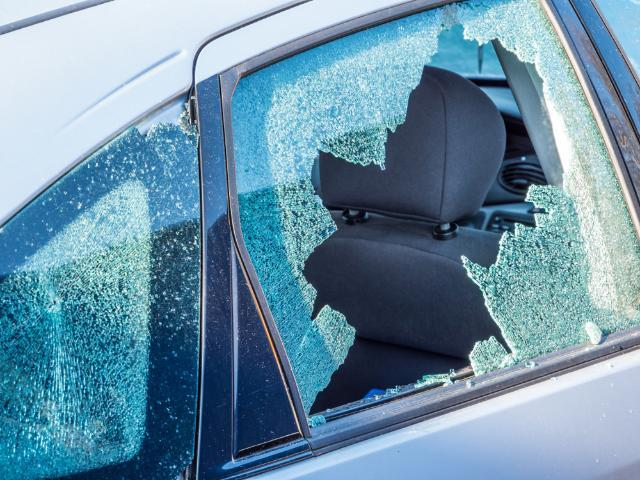glass shatter: (231, 0, 640, 428), (0, 91, 202, 480)
